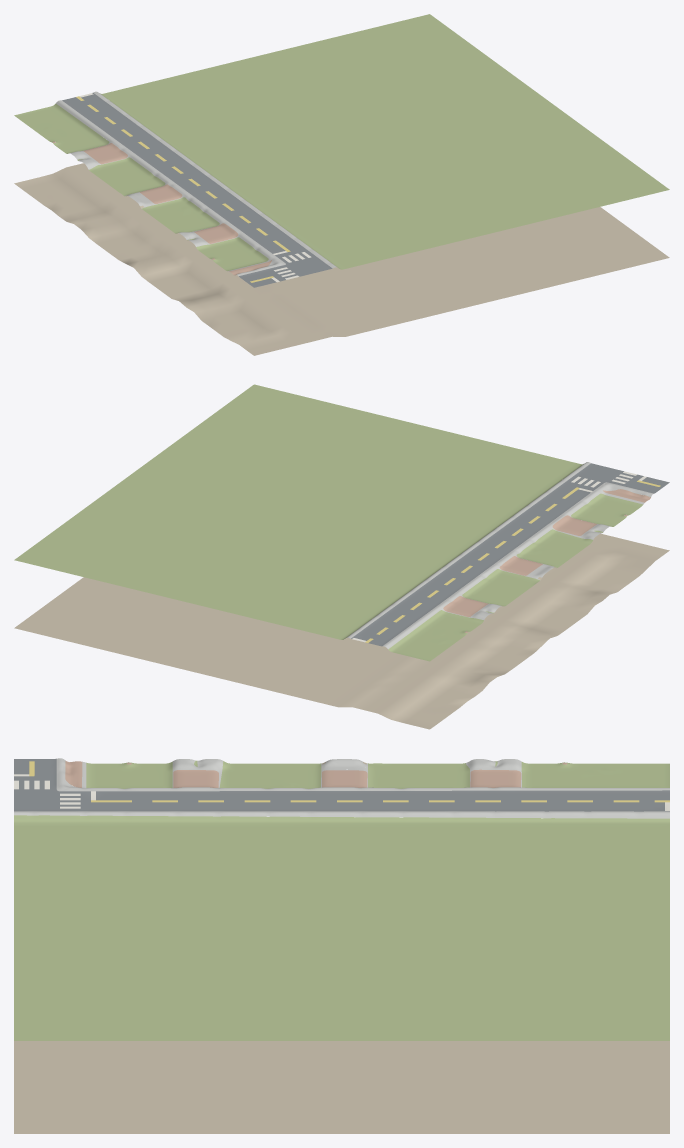
3 views of the same model, one above another, from view 1: azimuth 30°, elevation 25°; view 2: azimuth 150°, elevation 25°; view 3: azimuth 270°, elevation 25° (orthographic). The views are drawn at different scales.
Visible parts, largest first — view 1: s_-4_3__grass, s_-4_3__soil, s_-4_3__asphalt, s_-4_3__stone_paving, s_-4_3__brick_paving, s_-4_3__yellow_marking; view 2: s_-4_3__grass, s_-4_3__soil, s_-4_3__asphalt, s_-4_3__stone_paving, s_-4_3__brick_paving, s_-4_3__yellow_marking; view 3: s_-4_3__grass, s_-4_3__soil, s_-4_3__asphalt, s_-4_3__stone_paving, s_-4_3__brick_paving, s_-4_3__yellow_marking, s_-4_3__white_marking.
Boxes of the visible parts, box(x1,y1,x2,y2) form: s_-4_3__grass: box(14, 14, 669, 270); s_-4_3__soil: box(14, 163, 669, 355); s_-4_3__asphalt: box(62, 93, 332, 287); s_-4_3__stone_paving: box(56, 91, 337, 276); s_-4_3__brick_paving: box(52, 141, 271, 275); s_-4_3__yellow_marking: box(76, 96, 290, 282); s_-4_3__grass: box(14, 384, 643, 661); s_-4_3__soil: box(14, 492, 669, 729); s_-4_3__asphalt: box(351, 463, 669, 646); s_-4_3__stone_paving: box(346, 462, 653, 649); s_-4_3__brick_paving: box(443, 489, 650, 632); s_-4_3__yellow_marking: box(365, 480, 660, 642); s_-4_3__grass: box(14, 760, 669, 1040); s_-4_3__soil: box(14, 760, 669, 1133); s_-4_3__asphalt: box(14, 758, 669, 811); s_-4_3__stone_paving: box(14, 758, 669, 818); s_-4_3__brick_paving: box(65, 761, 567, 787); s_-4_3__yellow_marking: box(29, 761, 669, 802); s_-4_3__white_marking: box(14, 774, 669, 810).
Bounding box in the file's own units: 128 × 21.3 × 128.
